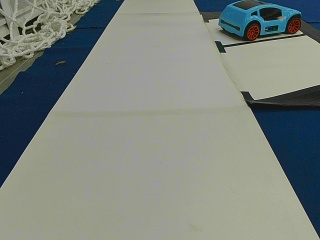car: (218, 3, 302, 39)
